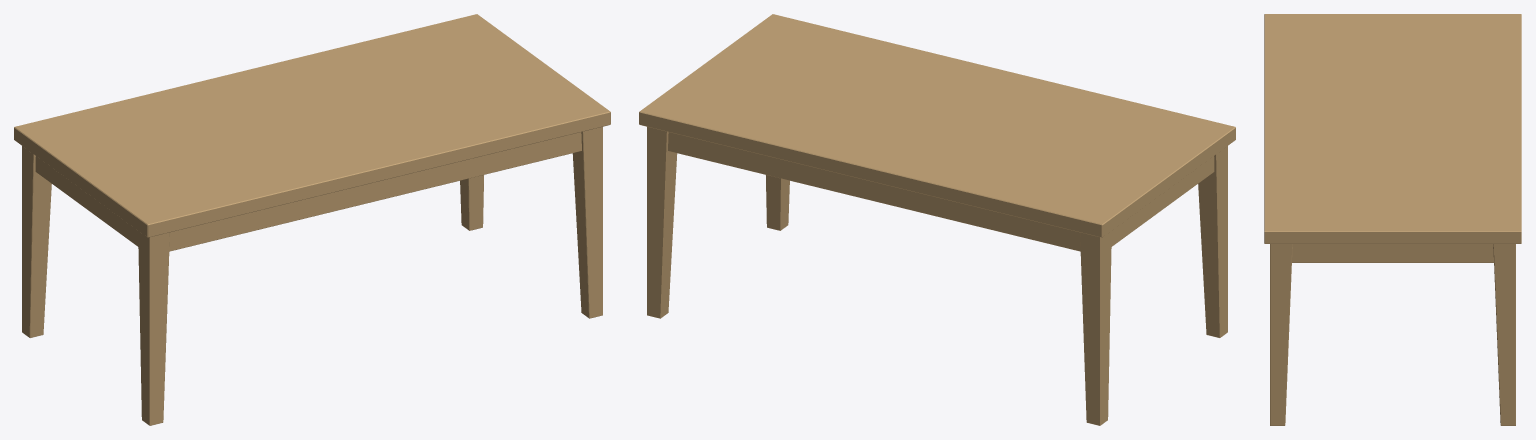
Rendered from Mesa_cocina.fbx.
3 views of the same model, side by side, from view 1: azimuth 30°, elevation 25°; view 2: azimuth 150°, elevation 25°; view 3: azimuth 270°, elevation 25° (orthographic). The views are drawn at different scales.
Parts seen in each view (by area): view 1: Tapa rectangular - 180 x 90 cm, Faldon largo delantero, Pata delantera izquierda, Pata delantera derecha, Pata trasera izquierda, Faldon corto izquierdo, Pata trasera derecha; view 2: Tapa rectangular - 180 x 90 cm, Faldon largo trasero, Pata trasera izquierda, Pata trasera derecha, Pata delantera izquierda, Faldon corto izquierdo, Pata delantera derecha; view 3: Tapa rectangular - 180 x 90 cm, Faldon corto derecho, Pata delantera derecha, Pata trasera derecha.
Boxes of the visible parts, x1=… form: Tapa rectangular - 180 x 90 cm: x1=14, y1=14, x2=610, y2=237; Faldon largo delantero: x1=169, y1=132, x2=581, y2=251; Pata delantera izquierda: x1=138, y1=231, x2=169, y2=425; Pata delantera derecha: x1=572, y1=127, x2=602, y2=318; Pata trasera izquierda: x1=22, y1=146, x2=51, y2=337; Faldon corto izquierdo: x1=35, y1=156, x2=138, y2=246; Pata trasera derecha: x1=460, y1=175, x2=483, y2=230; Tapa rectangular - 180 x 90 cm: x1=639, y1=14, x2=1235, y2=237; Faldon largo trasero: x1=668, y1=132, x2=1080, y2=251; Pata trasera izquierda: x1=1080, y1=231, x2=1111, y2=425; Pata trasera derecha: x1=647, y1=127, x2=677, y2=318; Pata delantera izquierda: x1=1198, y1=146, x2=1227, y2=337; Faldon corto izquierdo: x1=1111, y1=156, x2=1214, y2=246; Pata delantera derecha: x1=766, y1=175, x2=789, y2=230; Tapa rectangular - 180 x 90 cm: x1=1264, y1=14, x2=1521, y2=243; Faldon corto derecho: x1=1292, y1=244, x2=1493, y2=262; Pata delantera derecha: x1=1270, y1=244, x2=1292, y2=425; Pata trasera derecha: x1=1493, y1=244, x2=1515, y2=425.
Bounding box in the file's own units: 1073 × 453 × 537.
